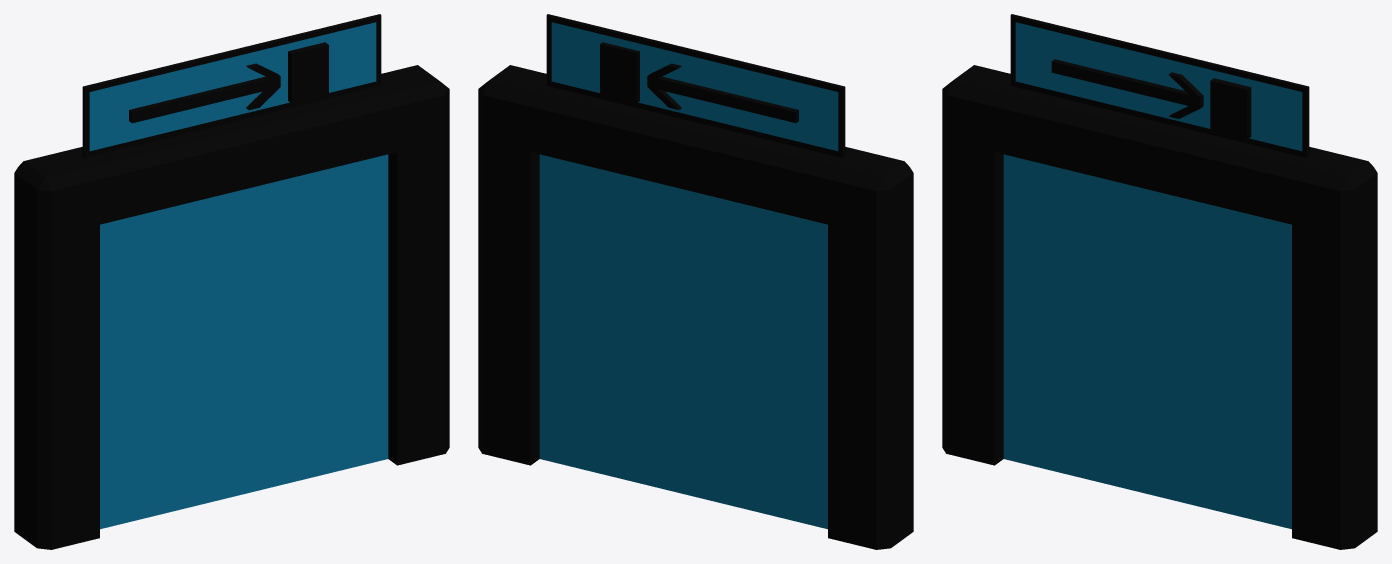
The model's file is exit.fbx.
3 renders of one model, left to right at view 1: azimuth 30°, elevation 25°; view 2: azimuth 150°, elevation 25°; view 3: azimuth 330°, elevation 25°, orthographic.
Parts seen in each view (by area): view 1: ExitPortal; view 2: ExitPortal; view 3: ExitPortal.
Part boxes in pixels (left/top/right/bottom): ExitPortal: left=14, top=14, right=449, bottom=549; ExitPortal: left=478, top=14, right=913, bottom=549; ExitPortal: left=942, top=14, right=1377, bottom=549.
Bounding box in the file's own units: 1.17 × 1.19 × 0.1638.
